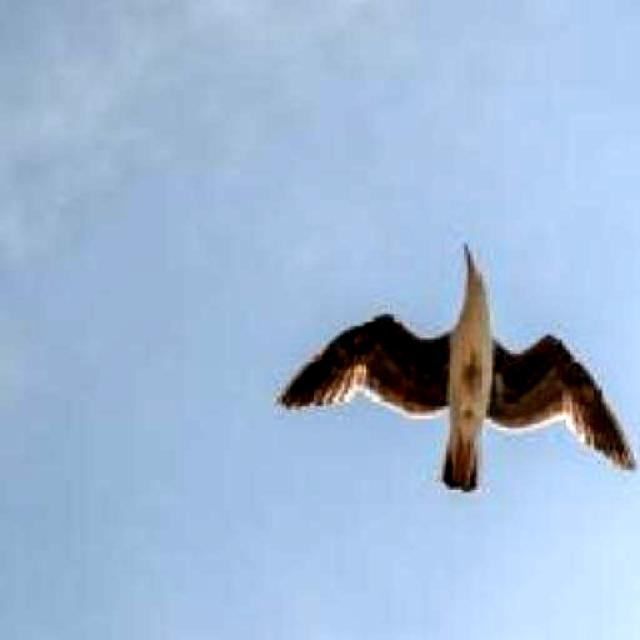airplane: (279, 238, 638, 495)
